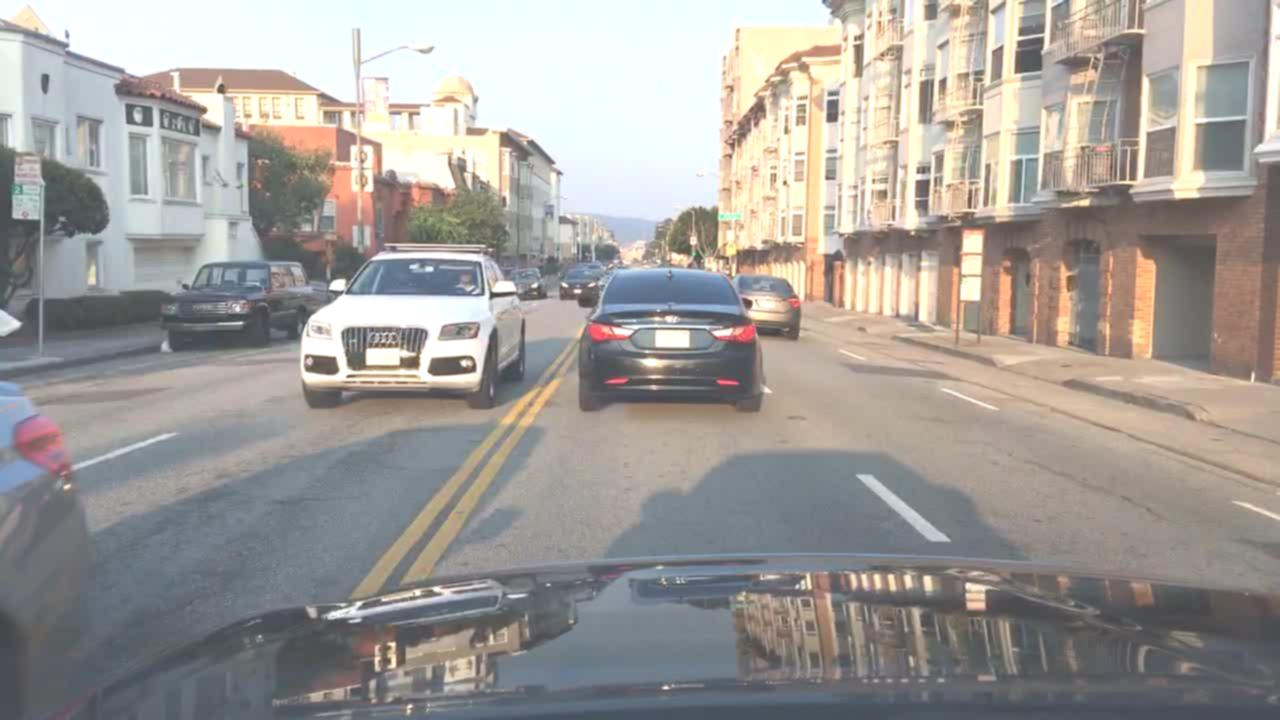Audi: (356, 322, 412, 349)
Hyundai: (663, 311, 690, 325)
